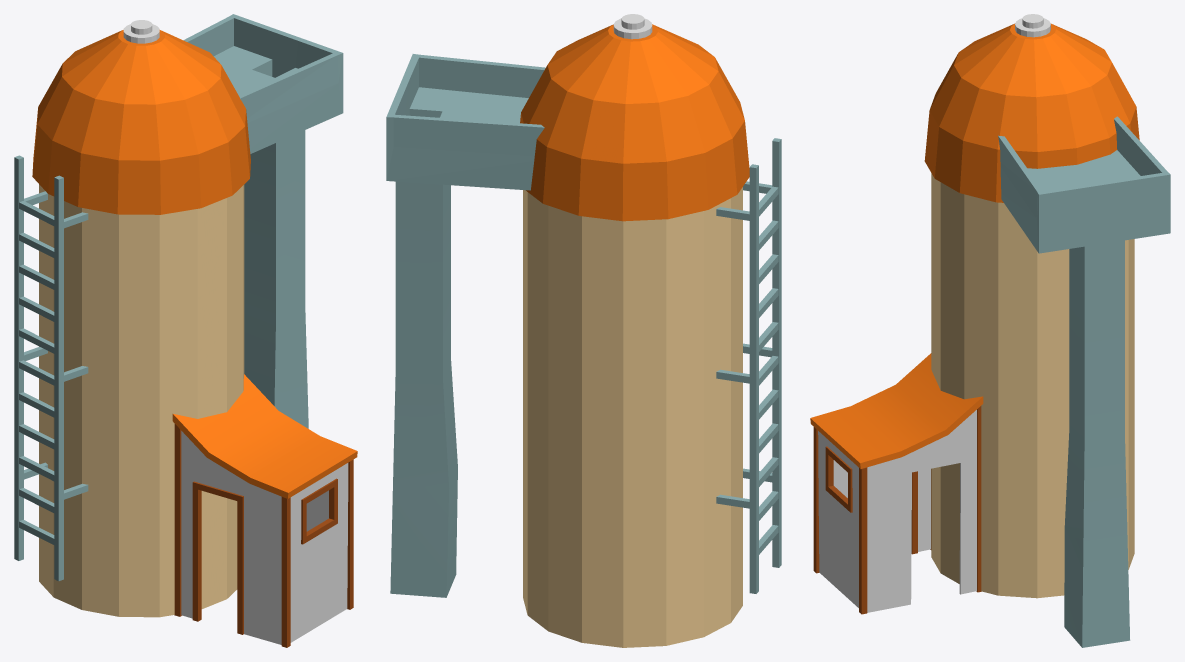
The model's file is House_20.FBX.
3 renders of one model, left to right at view 1: azimuth 30°, elevation 25°; view 2: azimuth 150°, elevation 25°; view 3: azimuth 270°, elevation 25°, orthographic. The views are drawn at different scales.
Visible parts, largest first — view 1: House_20; view 2: House_20; view 3: House_20.
Boxes of the visible parts, left/top/right/bottom form: House_20: left=14, top=14, right=357, bottom=647; House_20: left=386, top=14, right=781, bottom=647; House_20: left=810, top=14, right=1170, bottom=647.
Size of the model in its own units: 6.46 by 10.39 by 6.32.
1 material, 1 textured.
